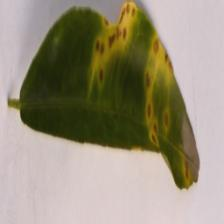canker: (87, 10, 193, 128)
